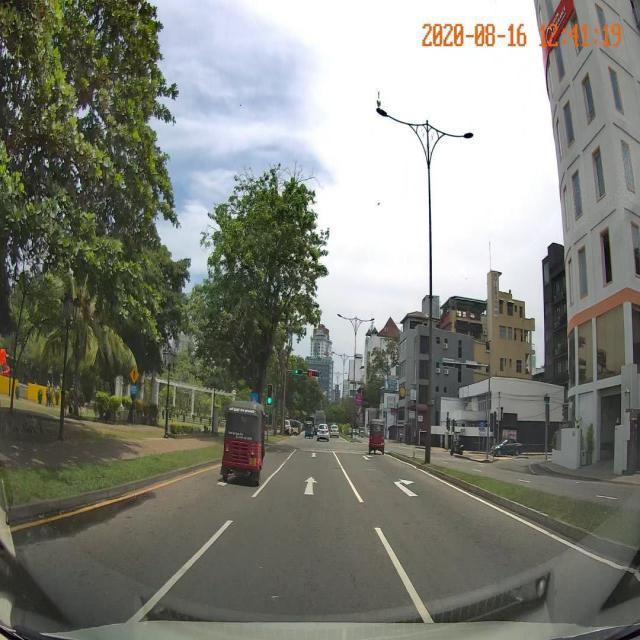Strelka vpered: (304, 476, 318, 495)
Strelka vpravo: (394, 479, 419, 497)
